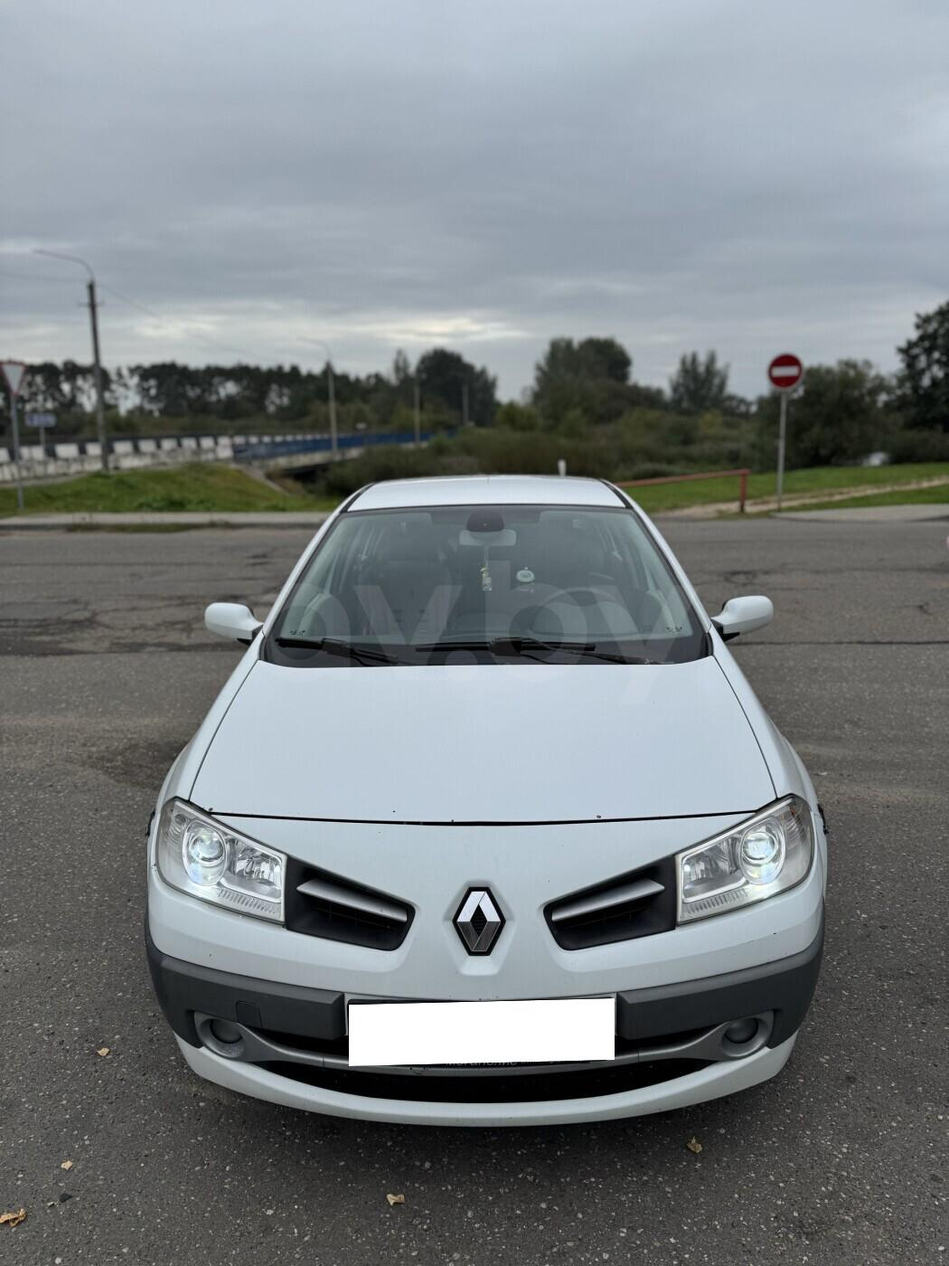Megane_2005-2009: (130, 467, 839, 1141)
